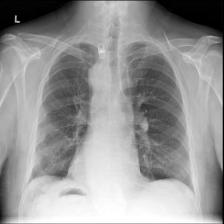normal: (23, 38, 198, 199)
